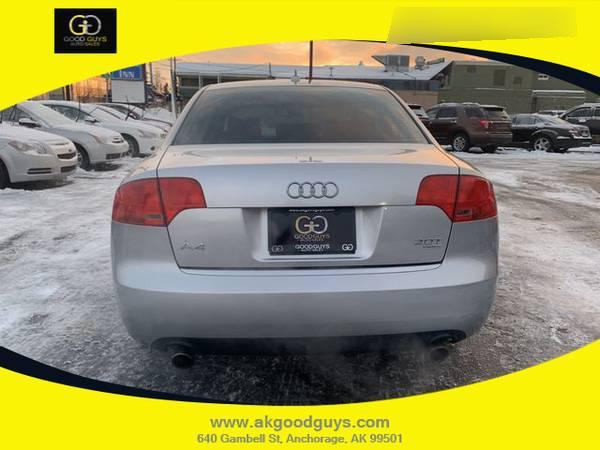Left_Taillight: (113, 173, 210, 225)
Rear_Bumper: (112, 211, 499, 353)
Rear_Windshield: (165, 82, 433, 143)
Right_Taillight: (417, 172, 500, 222)
Tailgate: (121, 143, 481, 270)
